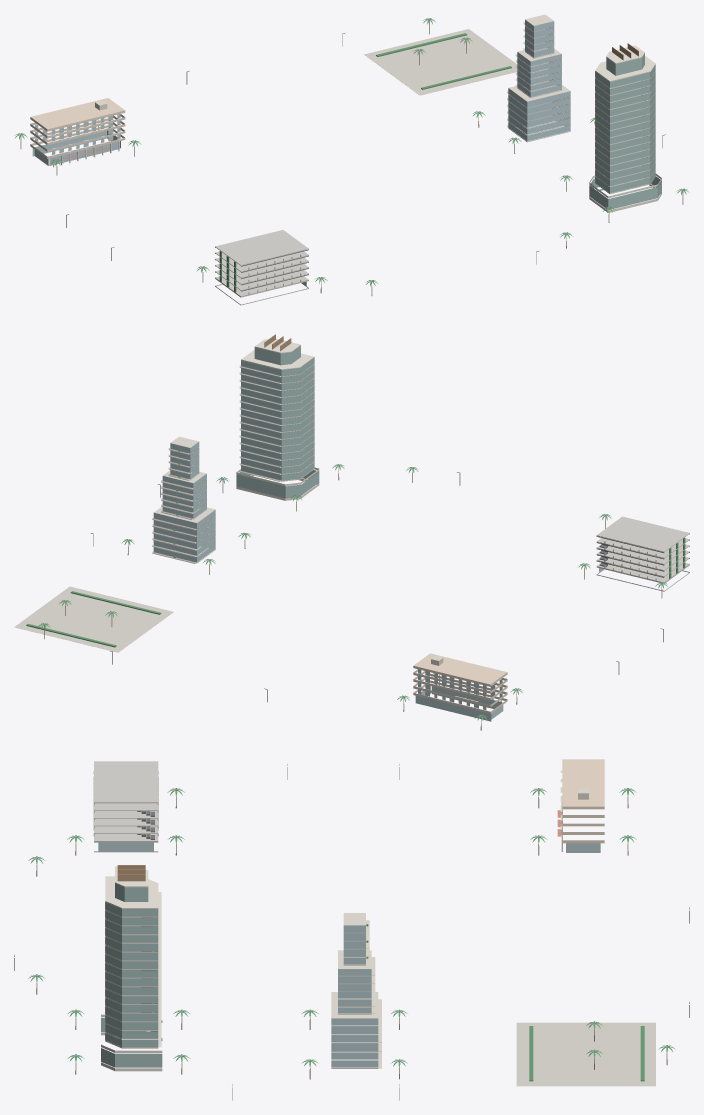
The model's file is downtown-phase1.glb.
3 views of the same model, one above another, from view 1: azimuth 30°, elevation 25°; view 2: azimuth 150°, elevation 25°; view 3: azimuth 270°, elevation 25° (orthographic). The views are drawn at different scales.
Parts seen in each view (by area): view 1: Lumen_Glass, Phase1_Plaza, Brisa_Glass, Nave_Concrete, Mercado_Stucco, Lumen_Stone, Brisa_Stone, Mercado_Glass, Phase1_Hedge, Nave_Dark; view 2: Lumen_Glass, Phase1_Plaza, Nave_Concrete, Brisa_Glass, Lumen_Stone, Mercado_Stucco, Brisa_Stone, Mercado_Glass, Lumen_Rail, Brisa_Rail; view 3: Phase1_Plaza, Lumen_Glass, Nave_Concrete, Brisa_Glass, Lumen_Stone, Brisa_Stone, Mercado_Stucco, Lumen_Wood, Nave_Glass, Phase1_Hedge.
Part boxes in pixels (x1,y1,x2,y2): Lumen_Glass: [589, 53, 661, 209]; Phase1_Plaza: [364, 29, 517, 95]; Brisa_Glass: [508, 20, 570, 141]; Nave_Concrete: [215, 230, 308, 305]; Mercado_Stucco: [30, 98, 125, 158]; Lumen_Stone: [589, 45, 661, 212]; Brisa_Stone: [507, 14, 570, 142]; Mercado_Glass: [32, 114, 120, 165]; Phase1_Hedge: [376, 33, 511, 89]; Nave_Dark: [215, 247, 308, 291]; Lumen_Glass: [236, 345, 319, 498]; Phase1_Plaza: [14, 586, 173, 652]; Nave_Concrete: [596, 516, 689, 591]; Brisa_Glass: [153, 442, 215, 562]; Lumen_Stone: [236, 338, 319, 500]; Mercado_Stucco: [413, 653, 507, 713]; Brisa_Stone: [152, 436, 215, 563]; Mercado_Glass: [415, 669, 503, 721]; Lumen_Rail: [240, 365, 279, 480]; Brisa_Rail: [152, 448, 194, 562]; Phase1_Plaza: [516, 1022, 655, 1086]; Lumen_Glass: [101, 883, 162, 1067]; Nave_Concrete: [93, 761, 158, 852]; Brisa_Glass: [331, 925, 378, 1067]; Lumen_Stone: [101, 866, 162, 1071]; Brisa_Stone: [331, 913, 381, 1068]; Mercado_Stucco: [562, 759, 604, 843]; Lumen_Wood: [105, 865, 145, 1039]; Nave_Glass: [98, 842, 153, 851]; Phase1_Hedge: [529, 1026, 644, 1081].
Bounding box in the file's own units: 274 × 72.6 × 242.
